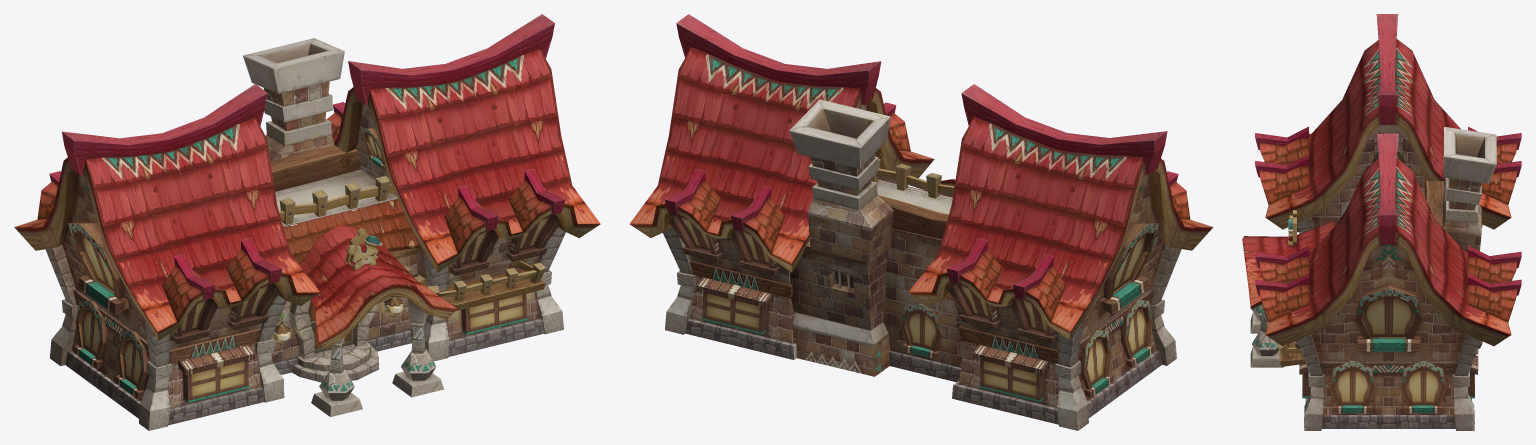
Rendered from House013.fbx.
3 renders of one model, left to right at view 1: azimuth 30°, elevation 25°; view 2: azimuth 150°, elevation 25°; view 3: azimuth 270°, elevation 25°, orthographic. The views are drawn at different scales.
Visible parts, largest first — view 1: House013; view 2: House013; view 3: House013.
Part boxes in pixels (x1,y1,x2,y2): House013: (14, 14, 600, 430); House013: (629, 14, 1213, 430); House013: (1242, 14, 1521, 430).
Bounding box in the file's own units: 25.55 × 13.59 × 14.99.
